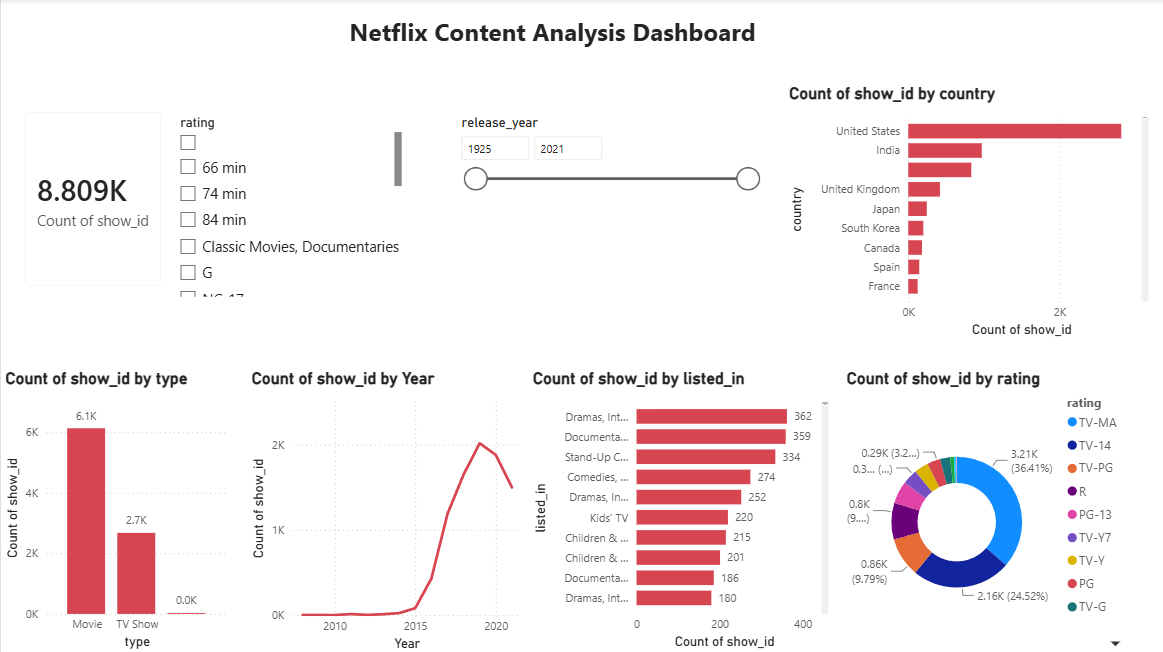

The page's visual inventory and layout, read from the dashboard file:
{"tool":"powerbi","page":{"name":"Page 1","canvas":[1280,720],"ordinal":0},"visuals":[{"type":"cardVisual","fields":{"Data":["CountNonNull(netflix_titles.show_id)"]},"box":[9.6,107,183.9,225],"z":0},{"type":"clusteredColumnChart","fields":{"Category":["netflix_titles.type"],"Y":["CountNonNull(netflix_titles.show_id)"]},"box":[0,406.2,253.9,312.9],"z":1000},{"type":"lineChart","fields":{"Category":["netflix_titles.date_added.Variation.Date Hierarchy.Year"],"Y":["CountNonNull(netflix_titles.show_id)"]},"box":[270.3,406.2,308.7,314.2],"z":1001},{"type":"clusteredBarChart","fields":{"Category":["netflix_titles.country"],"Y":["CountNonNull(netflix_titles.show_id)"]},"box":[860.4,93.3,404.8,282.7],"z":1002},{"type":"clusteredBarChart","fields":{"Category":["netflix_titles.listed_in"],"Y":["CountNonNull(netflix_titles.show_id)"]},"box":[579.1,406.2,334.8,312.9],"z":1003},{"type":"donutChart","fields":{"Category":["netflix_titles.rating"],"Y":["CountNonNull(netflix_titles.show_id)"]},"box":[923.5,406.2,356.8,314.2],"z":1004},{"type":"textbox","box":[377.4,12.3,756.1,56.3],"z":1005},{"type":"slicer","fields":{"Values":["netflix_titles.rating"]},"box":[183.9,122.1,260.7,209.9],"z":1006},{"type":"slicer","fields":{"Values":["netflix_titles.release_year"]},"box":[492.6,122.1,348.5,237.4],"z":1007}]}

Visuals, with their boxes in screenshot pixels (x1, y1, x2, y2), scaled from the page's 1280x720 canvas onto the 1163x652 screenshot:
cardVisual - CountNonNull(netflix_titles.show_id): (left=9, top=97, right=176, bottom=301)
clusteredColumnChart - netflix_titles.type x CountNonNull(netflix_titles.show_id): (left=0, top=368, right=231, bottom=651)
lineChart - netflix_titles.date_added.Variation.Date Hierarchy.Year x CountNonNull(netflix_titles.show_id): (left=246, top=368, right=526, bottom=651)
clusteredBarChart - netflix_titles.country x CountNonNull(netflix_titles.show_id): (left=782, top=84, right=1150, bottom=340)
clusteredBarChart - netflix_titles.listed_in x CountNonNull(netflix_titles.show_id): (left=526, top=368, right=830, bottom=651)
donutChart - netflix_titles.rating x CountNonNull(netflix_titles.show_id): (left=839, top=368, right=1162, bottom=651)
textbox: (left=343, top=11, right=1030, bottom=62)
slicer - netflix_titles.rating: (left=167, top=111, right=404, bottom=301)
slicer - netflix_titles.release_year: (left=448, top=111, right=764, bottom=326)
